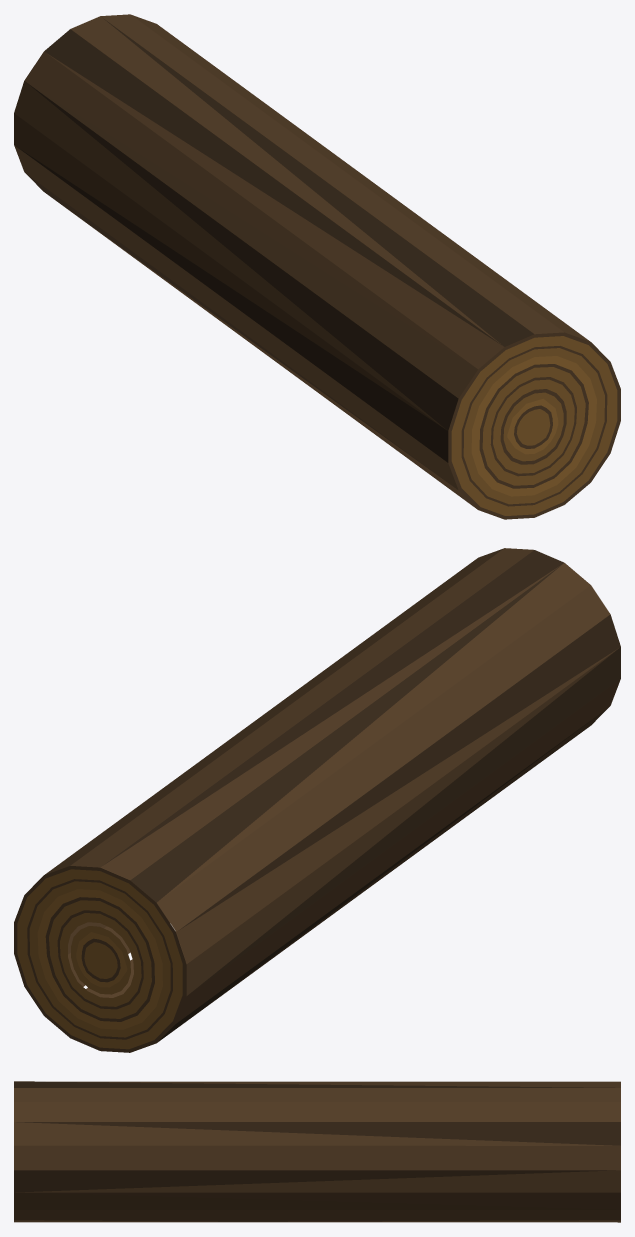
The model's file is baumModell.fbx.
3 renders of one model, top to bottom at view 1: azimuth 30°, elevation 25°; view 2: azimuth 150°, elevation 25°; view 3: azimuth 270°, elevation 25°, orthographic. The views are drawn at different scales.
Parts seen in each view (by area): view 1: Cylinder.001; view 2: Cylinder.001; view 3: Cylinder.001.
Part boxes in pixels (x1,y1,x2,y2): Cylinder.001: (14, 14, 620, 519); Cylinder.001: (14, 548, 620, 1052); Cylinder.001: (14, 1081, 620, 1222).
Bounding box in the file's own units: 59.14 × 60.02 × 257.
